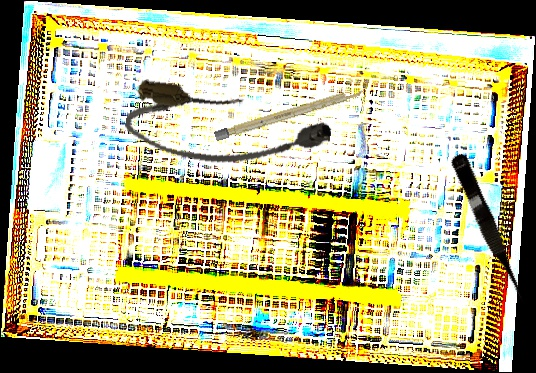Cannula: (121, 76, 335, 184)
Micro Scissor: (445, 150, 532, 311)
Scalpel Handle: (213, 86, 365, 142)
